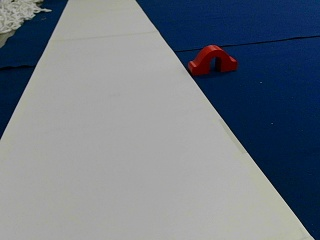bridge: (190, 45, 235, 73)
